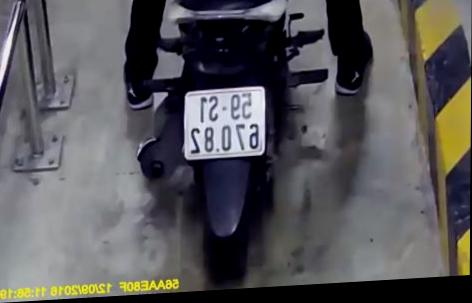License_Plate: (178, 81, 271, 170)
